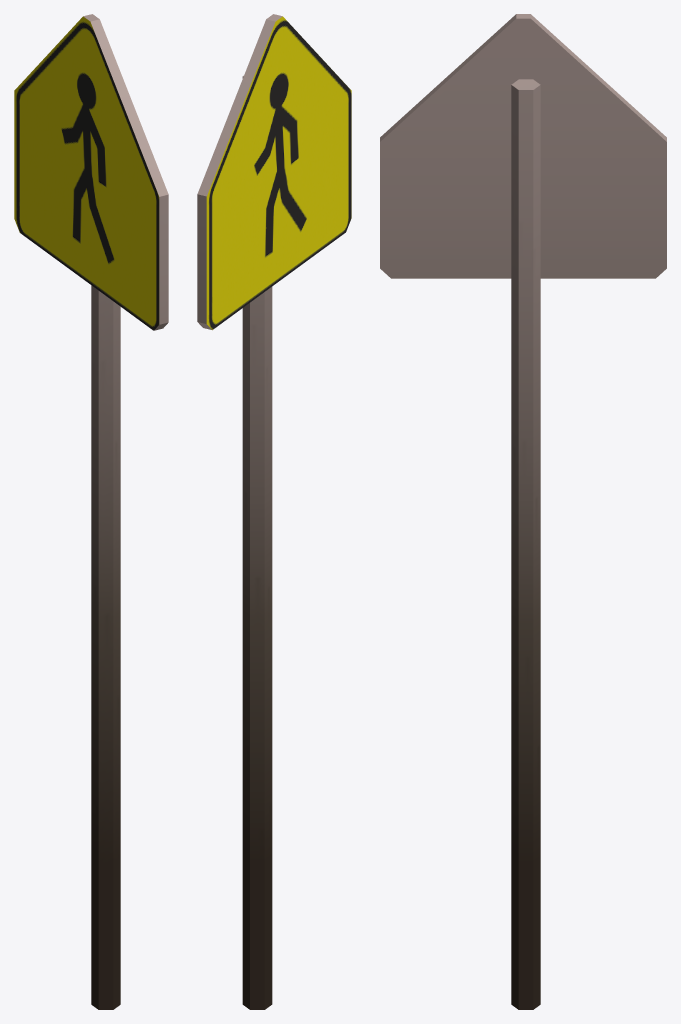
File: Sing3.fbx
The picture shows the model from 3 angles, left to right: view 1: azimuth 30°, elevation 25°; view 2: azimuth 150°, elevation 25°; view 3: azimuth 270°, elevation 25°; orthographic projection.
Visible parts, largest first — view 1: Circle.012, Circle.009; view 2: Circle.012, Circle.009; view 3: Circle.012, Circle.009.
Part boxes in pixels (box(x1,y1,x2,y2)): Circle.012: box(14, 14, 168, 330); Circle.009: box(91, 285, 120, 1009); Circle.012: box(197, 14, 351, 330); Circle.009: box(242, 75, 272, 1009); Circle.012: box(380, 14, 666, 278); Circle.009: box(511, 79, 540, 1009).
Bounding box in the file's own units: 12.35 × 370 × 98.17.
